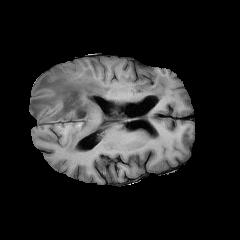glioma: (29, 68, 167, 153)
